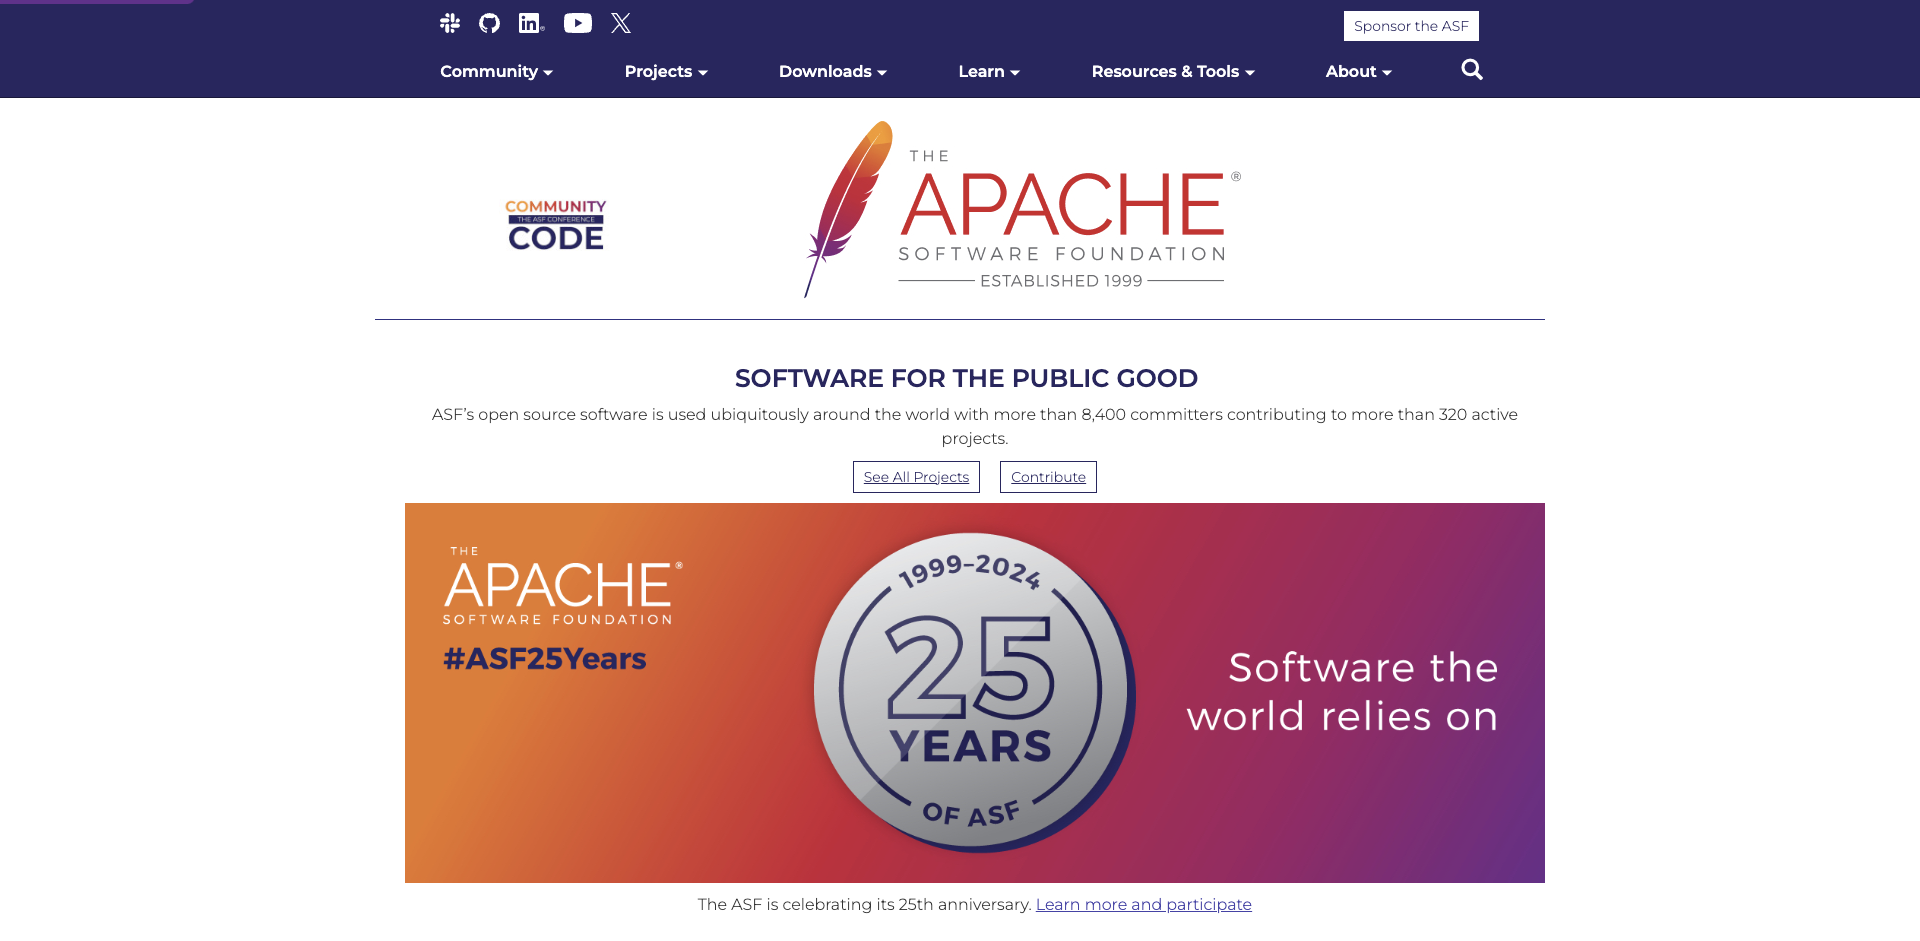button: (1070, 51, 1276, 92), (419, 51, 574, 92), (757, 51, 909, 92), (602, 51, 729, 92), (1304, 51, 1413, 92), (1343, 10, 1480, 42), (937, 51, 1041, 92), (852, 461, 981, 493), (1000, 461, 1097, 493), (1441, 51, 1501, 92)
dropdown: (1070, 51, 1276, 92), (419, 51, 574, 92), (757, 51, 909, 92), (602, 51, 729, 92), (1304, 51, 1413, 92), (937, 51, 1041, 92), (1441, 51, 1501, 92)
link: (405, 502, 1545, 882), (498, 170, 613, 285), (1036, 894, 1253, 914), (0, 0, 195, 4), (563, 12, 591, 31), (1199, 363, 1215, 393), (519, 12, 545, 31), (440, 12, 460, 31), (479, 12, 500, 31), (611, 12, 631, 31)
